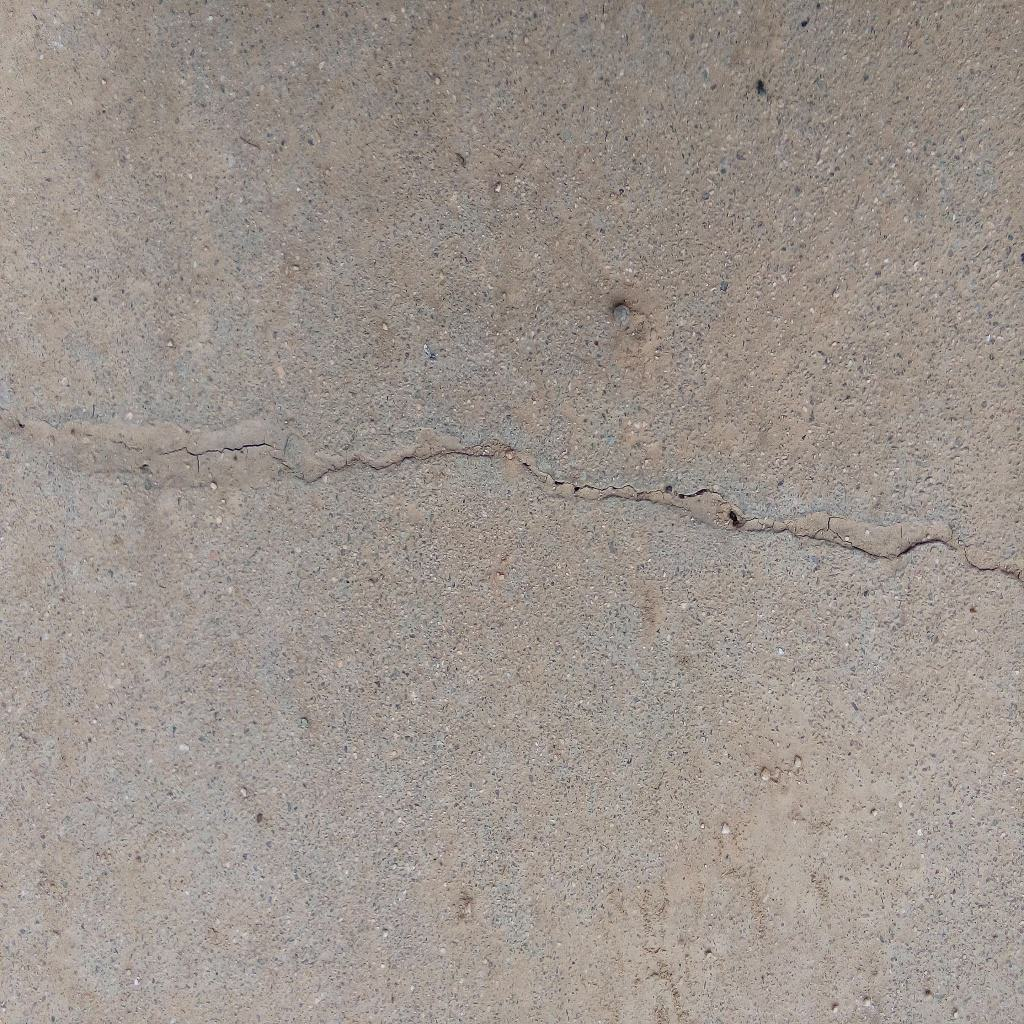Crack: (1, 421, 1024, 585)
